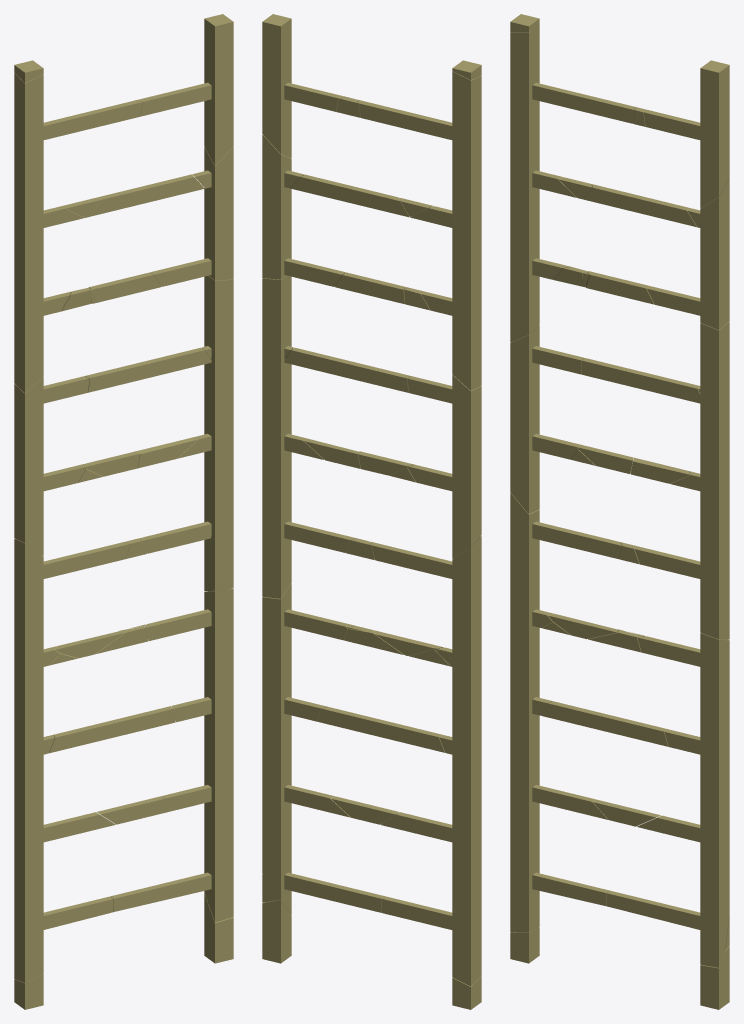
File: stairs_fractured.fbx
The picture shows the model from 3 angles, left to right: view 1: azimuth 30°, elevation 25°; view 2: azimuth 150°, elevation 25°; view 3: azimuth 330°, elevation 25°; orthographic projection.
Visible parts, largest first — view 1: ladder_cell, ladder_cell.005, ladder_cell.010, ladder_cell.004, ladder_cell.002, ladder_cell.001, ladder_cell.006, ladder stairs_cell.028, ladder stairs_cell.025, ladder stairs_cell.017, ladder stairs_cell.027, ladder stairs_cell.001 (+20 smaller); view 2: ladder_cell, ladder_cell.010, ladder_cell.004, ladder_cell.005, ladder_cell.002, ladder_cell.001, ladder_cell.006, ladder stairs_cell.028, ladder stairs_cell.025, ladder stairs_cell.017, ladder stairs_cell.001, ladder stairs_cell.027 (+21 smaller); view 3: ladder_cell, ladder_cell.005, ladder_cell.004, ladder_cell.010, ladder_cell.002, ladder_cell.001, ladder_cell.006, ladder stairs_cell.028, ladder stairs_cell.025, ladder stairs_cell.017, ladder stairs_cell.027, ladder stairs_cell.001 (+21 smaller).
Boxes of the visible parts, x1,y1,x2,y2 form: ladder_cell: (14, 539, 43, 982); ladder_cell.005: (204, 589, 233, 922); ladder_cell.010: (14, 73, 43, 392); ladder_cell.004: (204, 275, 233, 590); ladder_cell.002: (14, 377, 43, 555); ladder_cell.001: (204, 14, 233, 165); ladder_cell.006: (204, 146, 233, 280); ladder stairs_cell.028: (49, 706, 175, 753); ladder stairs_cell.025: (85, 347, 211, 392); ladder stairs_cell.017: (91, 174, 204, 216); ladder stairs_cell.027: (43, 100, 142, 139); ladder stairs_cell.001: (111, 872, 211, 911); ladder_cell: (452, 536, 481, 986); ladder_cell.010: (452, 71, 481, 390); ladder_cell.004: (262, 275, 291, 598); ladder_cell.005: (262, 583, 291, 914); ladder_cell.002: (452, 374, 481, 558); ladder_cell.001: (262, 14, 291, 158); ladder_cell.006: (262, 134, 291, 279); ladder stairs_cell.028: (317, 707, 445, 752); ladder stairs_cell.025: (284, 347, 409, 392); ladder stairs_cell.017: (290, 174, 408, 217); ladder stairs_cell.001: (284, 872, 385, 912); ladder stairs_cell.027: (356, 99, 452, 139); ladder_cell: (510, 493, 539, 932); ladder_cell.005: (700, 633, 729, 967); ladder_cell.004: (700, 321, 729, 639); ladder_cell.010: (510, 22, 539, 342); ladder_cell.002: (510, 325, 539, 513); ladder_cell.001: (700, 60, 729, 207); ladder_cell.006: (700, 178, 729, 329); ladder stairs_cell.028: (541, 701, 669, 746); ladder stairs_cell.025: (581, 358, 700, 403); ladder stairs_cell.017: (583, 184, 697, 227); ladder stairs_cell.027: (532, 82, 635, 123); ladder stairs_cell.001: (606, 890, 700, 929).
Size of the model in its own units: 103 by 443 by 9.22.
